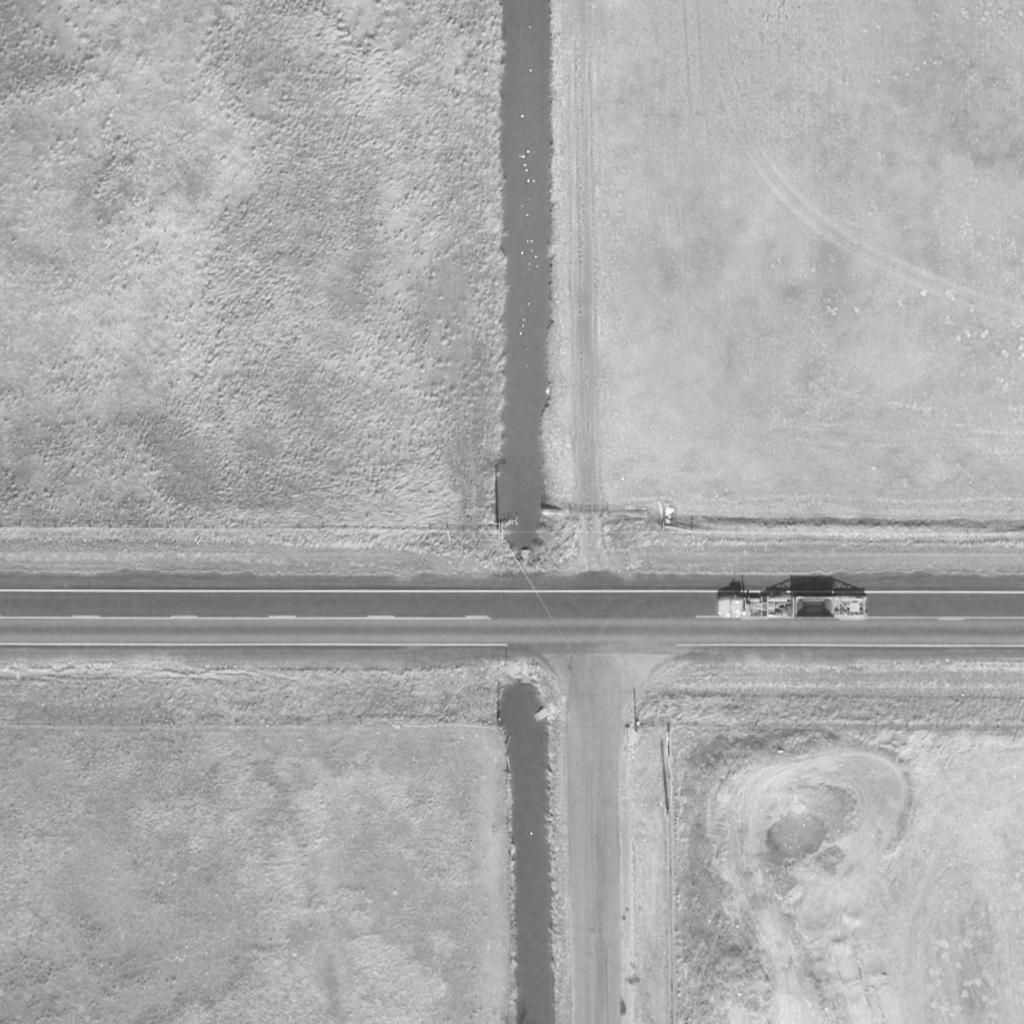vehicle: (716, 595, 870, 621)
